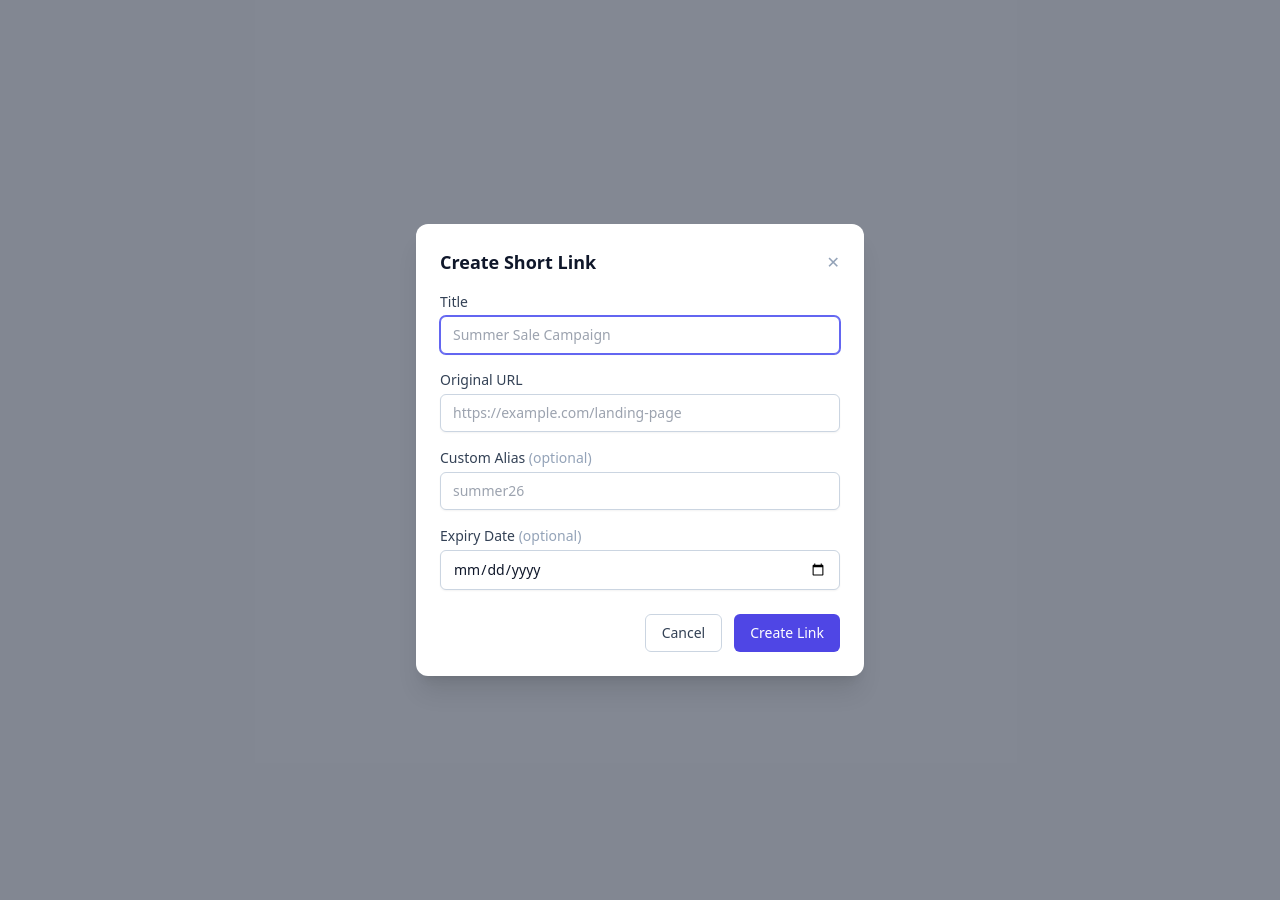
it: LinkFormModal › shows a validation error for an invalid URL
In the field labelled "Title": [640, 335] box top-left (440, 316), bottom-right (840, 354), type "My Link"
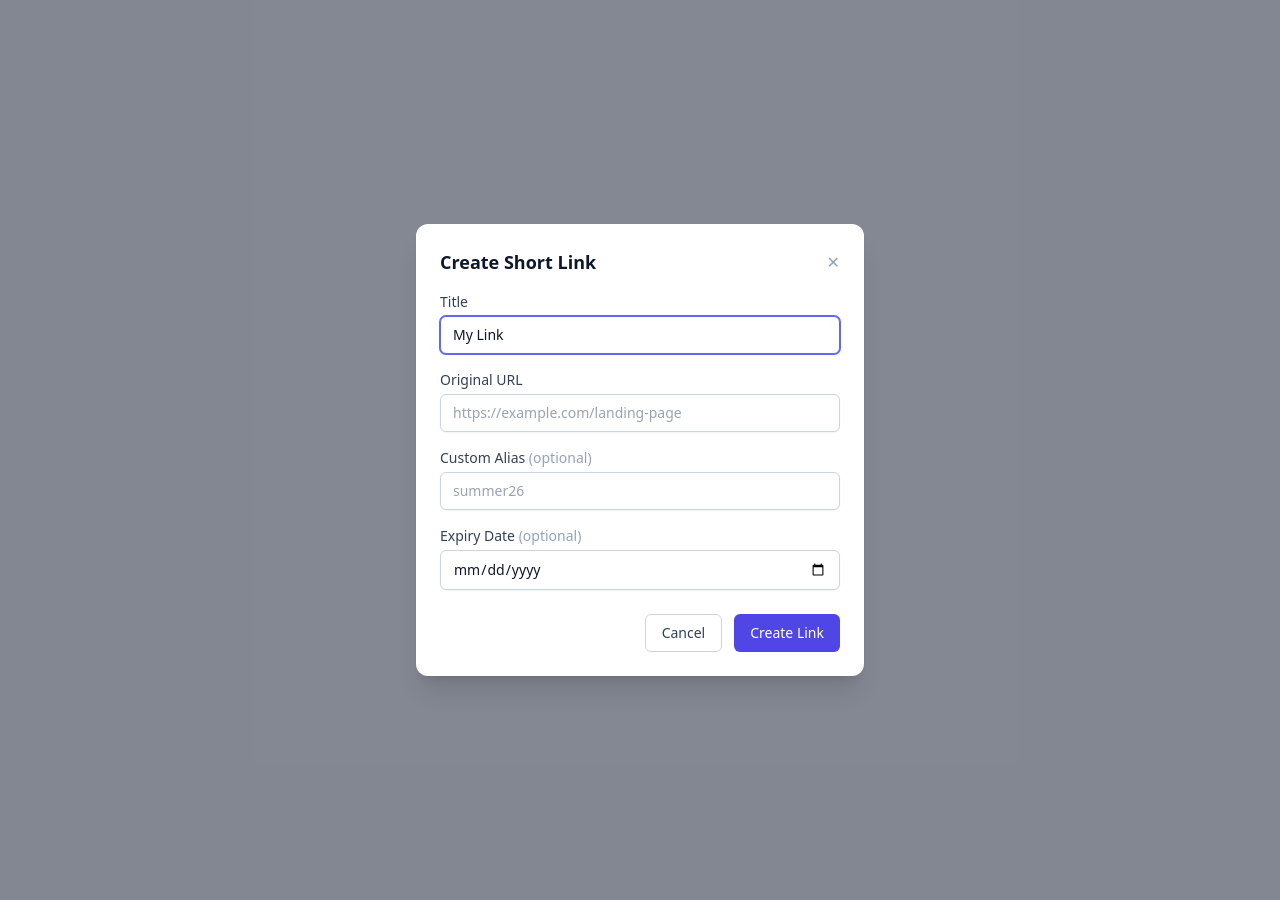
In the field labelled "Original URL": [640, 413] box top-left (440, 394), bottom-right (840, 432), type "not-a-url"
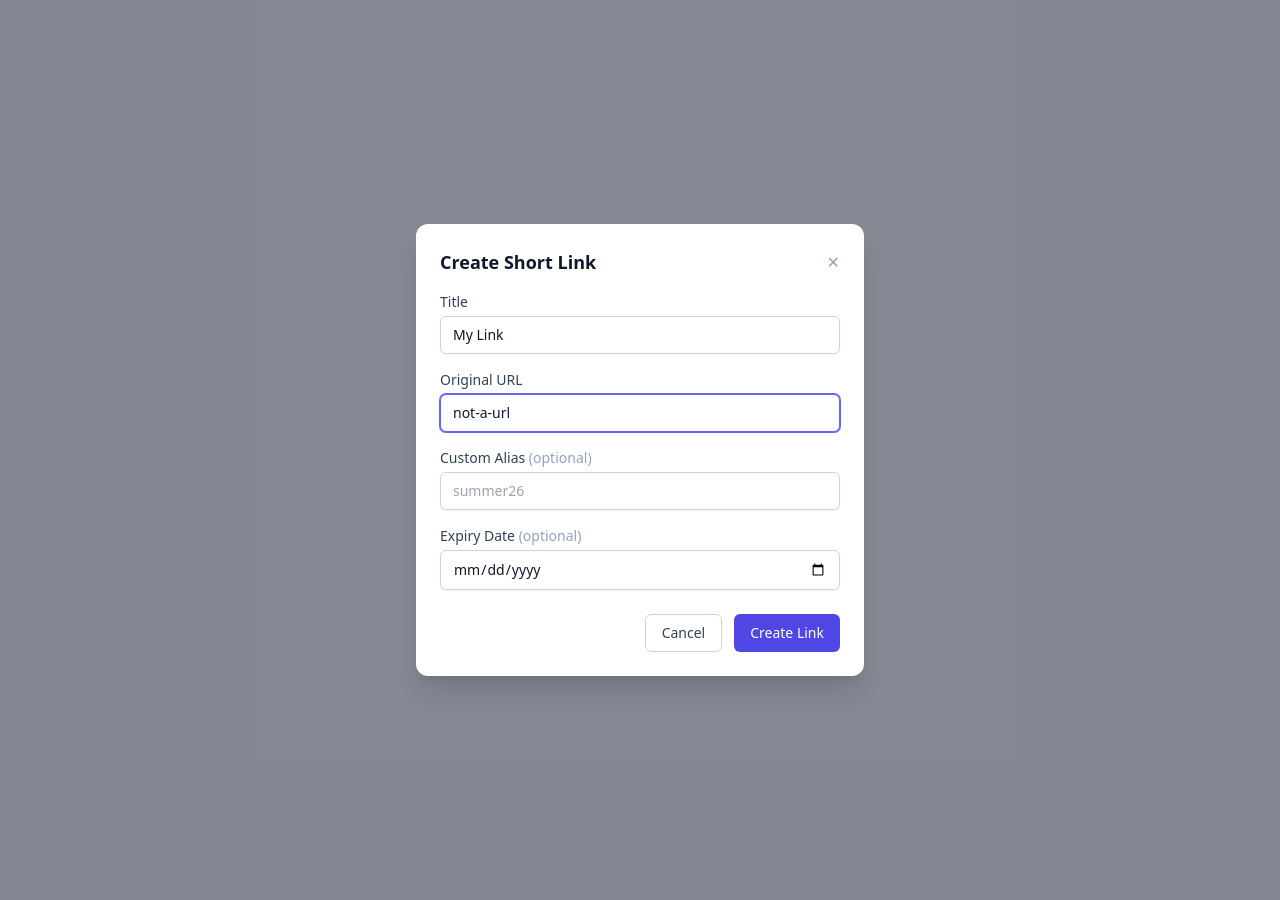
Click the button "Create Link": [787, 633] box top-left (734, 614), bottom-right (840, 652)
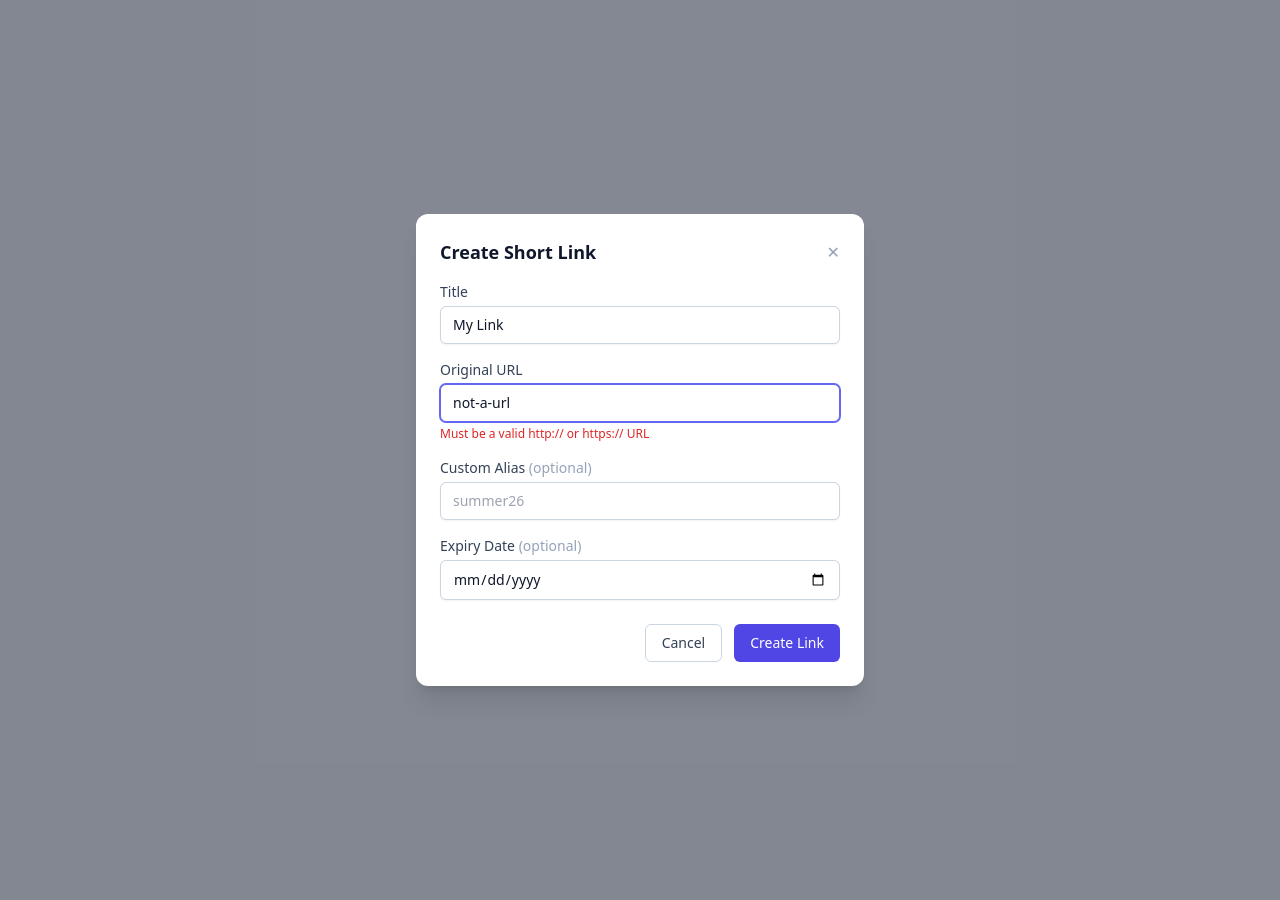
Expected: the text "Must be a valid http:// or https:// URL" is shown, top-left (440, 425), bottom-right (649, 442)
